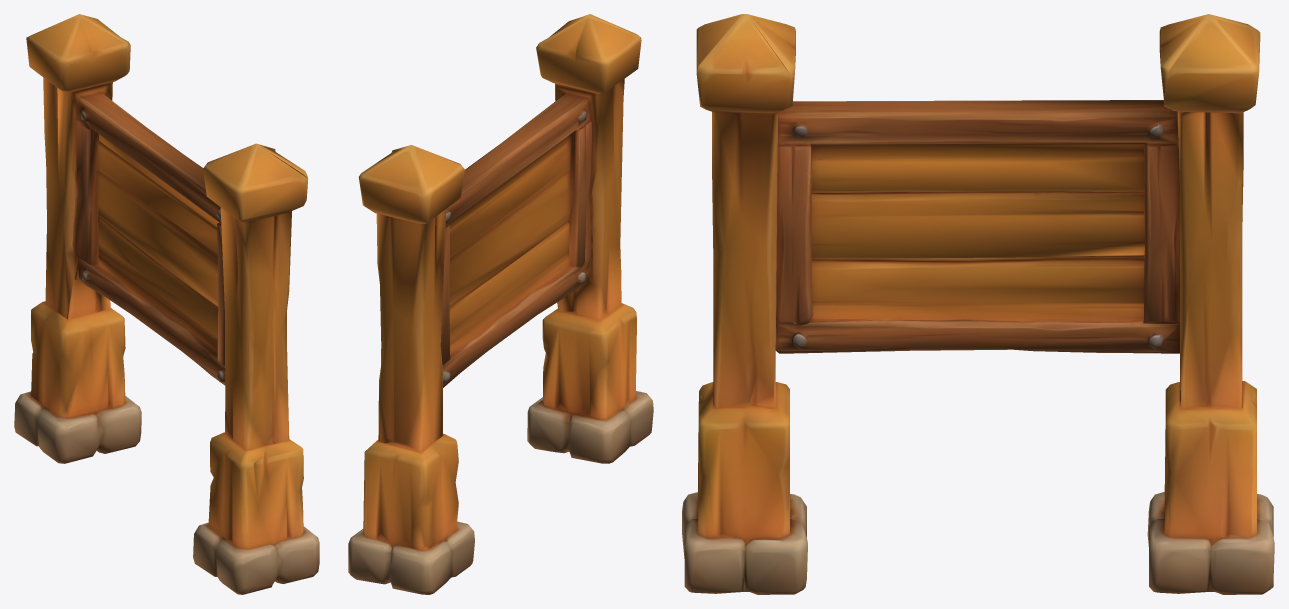
Rendered from tripo_raw.glb.
3 views of the same model, side by side, from view 1: azimuth 30°, elevation 25°; view 2: azimuth 150°, elevation 25°; view 3: azimuth 270°, elevation 25° (orthographic). The views are drawn at different scales.
Visible parts, largest first — view 1: tripo_node_6ab6c7f0-16b0-4224-84c7-4e195e5382ea; view 2: tripo_node_6ab6c7f0-16b0-4224-84c7-4e195e5382ea; view 3: tripo_node_6ab6c7f0-16b0-4224-84c7-4e195e5382ea.
Part boxes in pixels (x1,y1,x2,y2): tripo_node_6ab6c7f0-16b0-4224-84c7-4e195e5382ea: (14,14,319,594); tripo_node_6ab6c7f0-16b0-4224-84c7-4e195e5382ea: (348,14,653,594); tripo_node_6ab6c7f0-16b0-4224-84c7-4e195e5382ea: (682,14,1274,594).
Size of the model in its own units: 0.2114 by 1 by 0.9667.
Materials: 1 (1 with a texture image).
